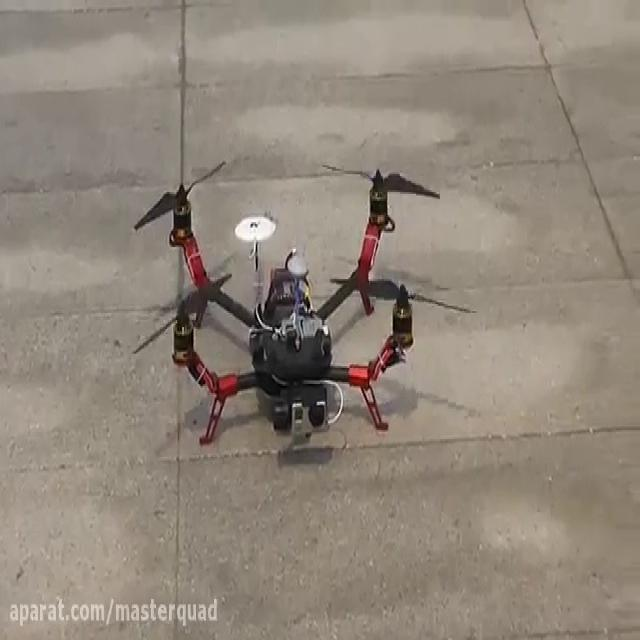drone: (130, 158, 478, 464)
